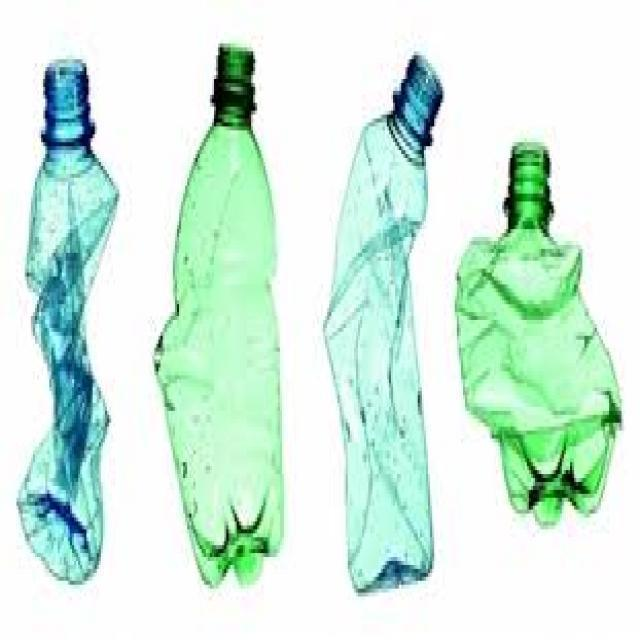Plastic: (150, 42, 288, 592), (324, 48, 444, 600), (454, 146, 624, 534), (19, 55, 120, 591)
